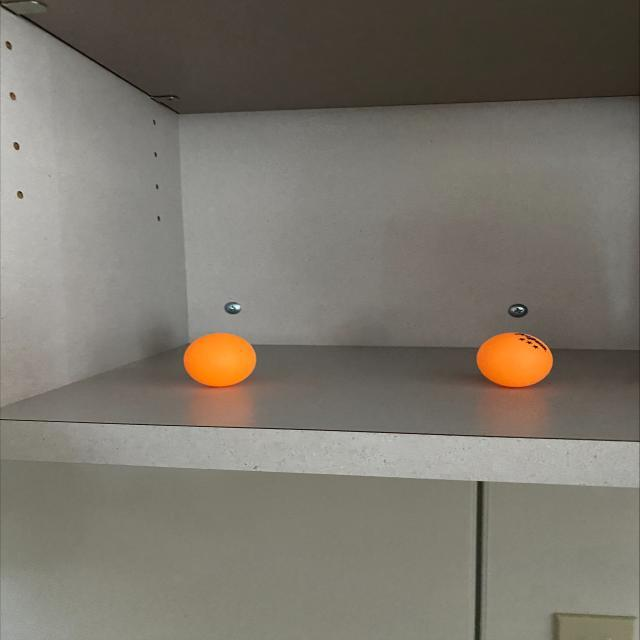ping-pong-ball: (473, 330, 555, 390), (180, 331, 258, 386)
